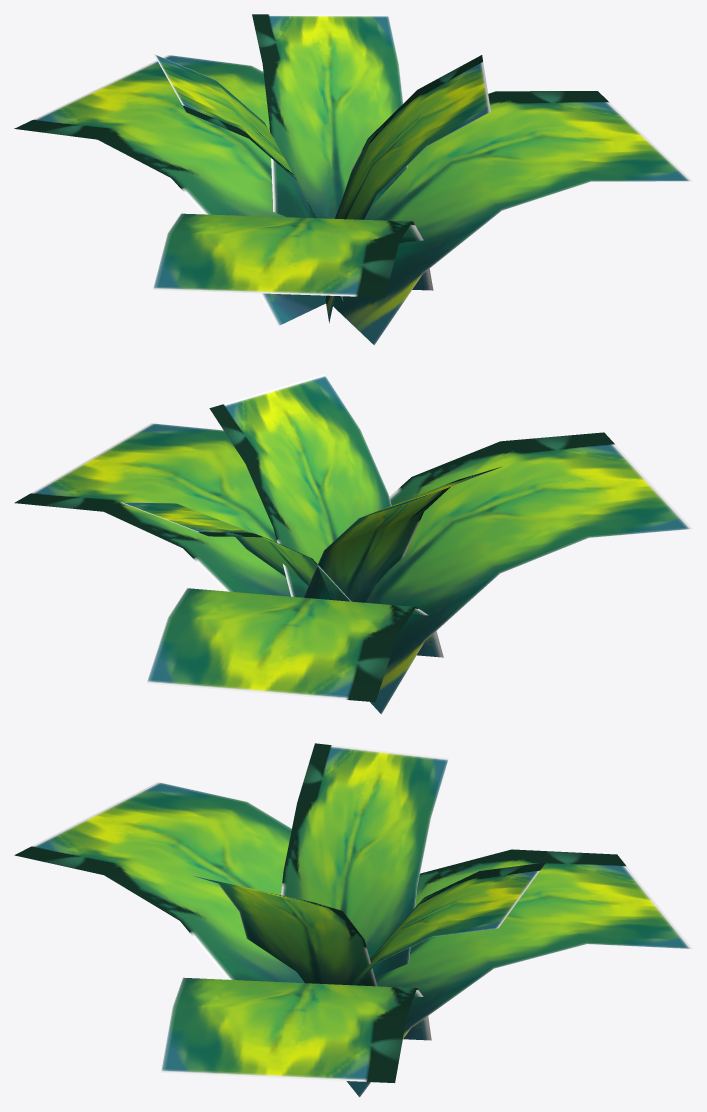
The model's file is SM_ENV_PLANT_leaf_village.glb.
The picture shows the model from 3 angles, top to bottom: view 1: azimuth 30°, elevation 25°; view 2: azimuth 150°, elevation 25°; view 3: azimuth 270°, elevation 25°; orthographic projection.
Visible parts, largest first — view 1: SM_ENV_PLANT_leaf_village_EXPORT; view 2: SM_ENV_PLANT_leaf_village_EXPORT; view 3: SM_ENV_PLANT_leaf_village_EXPORT.
Part boxes in pixels (x1,y1,x2,y2): SM_ENV_PLANT_leaf_village_EXPORT: (14,14,692,345); SM_ENV_PLANT_leaf_village_EXPORT: (14,374,692,714); SM_ENV_PLANT_leaf_village_EXPORT: (14,743,692,1097).
Bounding box in the file's own units: 2.04 × 0.7904 × 2.12.
1 material, 1 textured.
